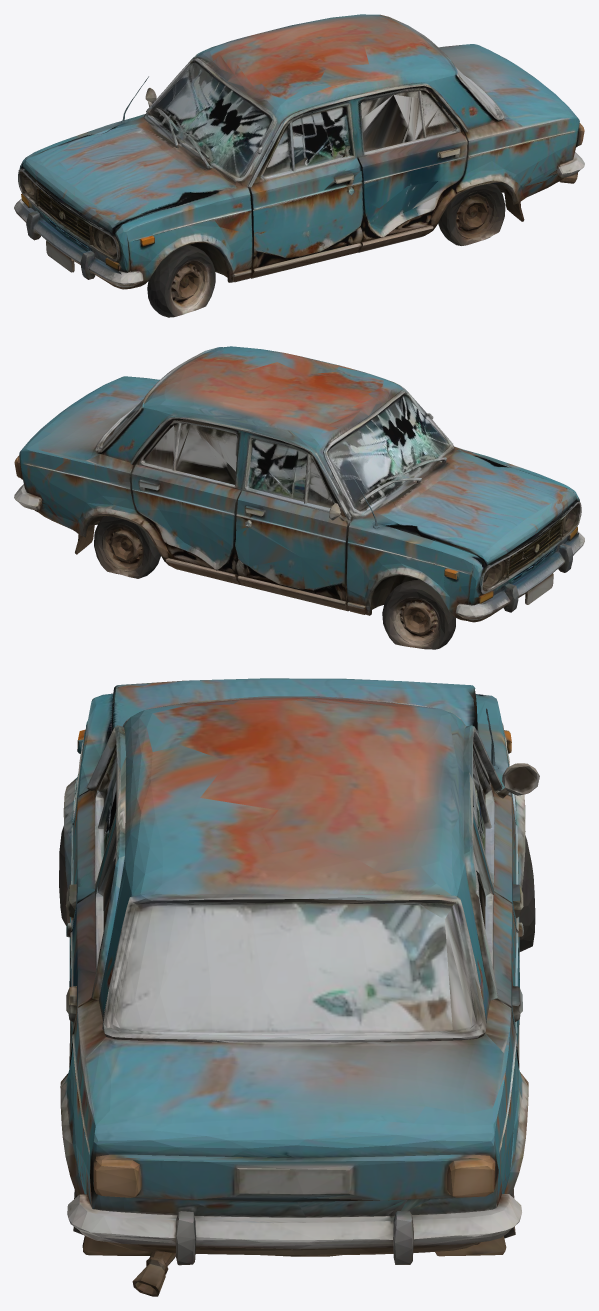
File: ch03_abandoned_compact_car.glb
3 views of the same model, one above another, from view 1: azimuth 30°, elevation 25°; view 2: azimuth 150°, elevation 25°; view 3: azimuth 270°, elevation 25° (orthographic). The views are drawn at different scales.
Visible parts, largest first — view 1: material; view 2: material; view 3: material.
Part boxes in pixels (x1,y1,x2,y2): material: (14, 14, 584, 317); material: (14, 346, 584, 649); material: (59, 678, 539, 1296).
Bounding box in the file's own units: 1.14 × 0.3954 × 0.4843.
1 material, 1 textured.
